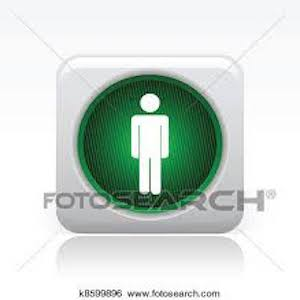green: (122, 90, 188, 194)
